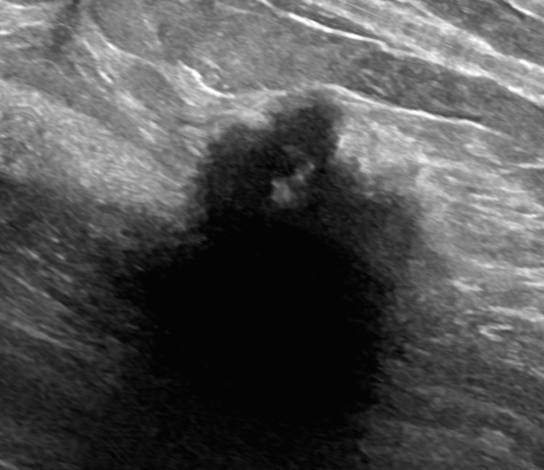Malignant: (196, 95, 355, 233)
